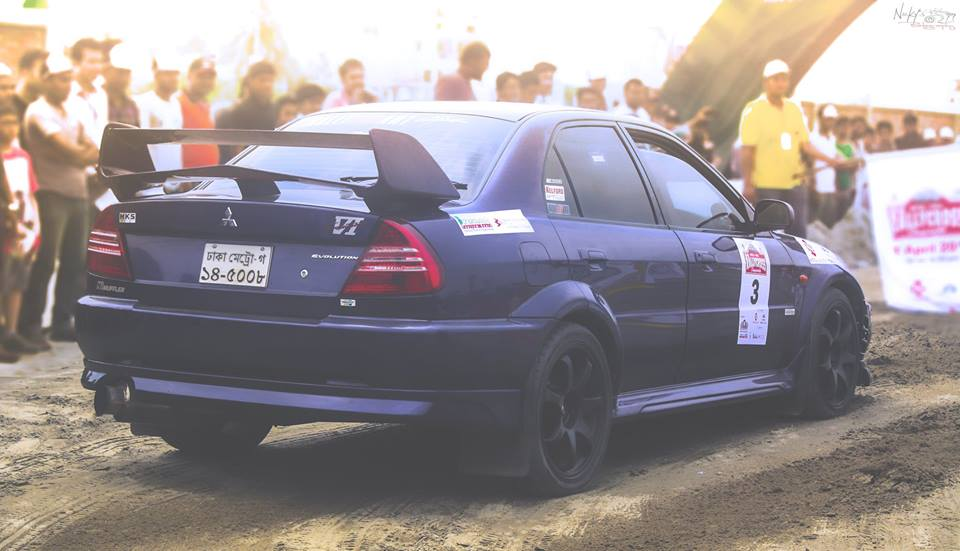registration_plate: (198, 242, 274, 288)
